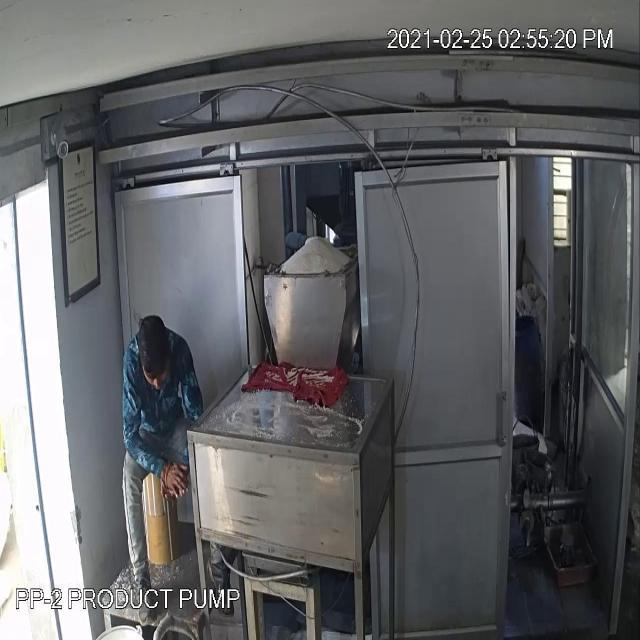no-helmet: (130, 309, 174, 385)
